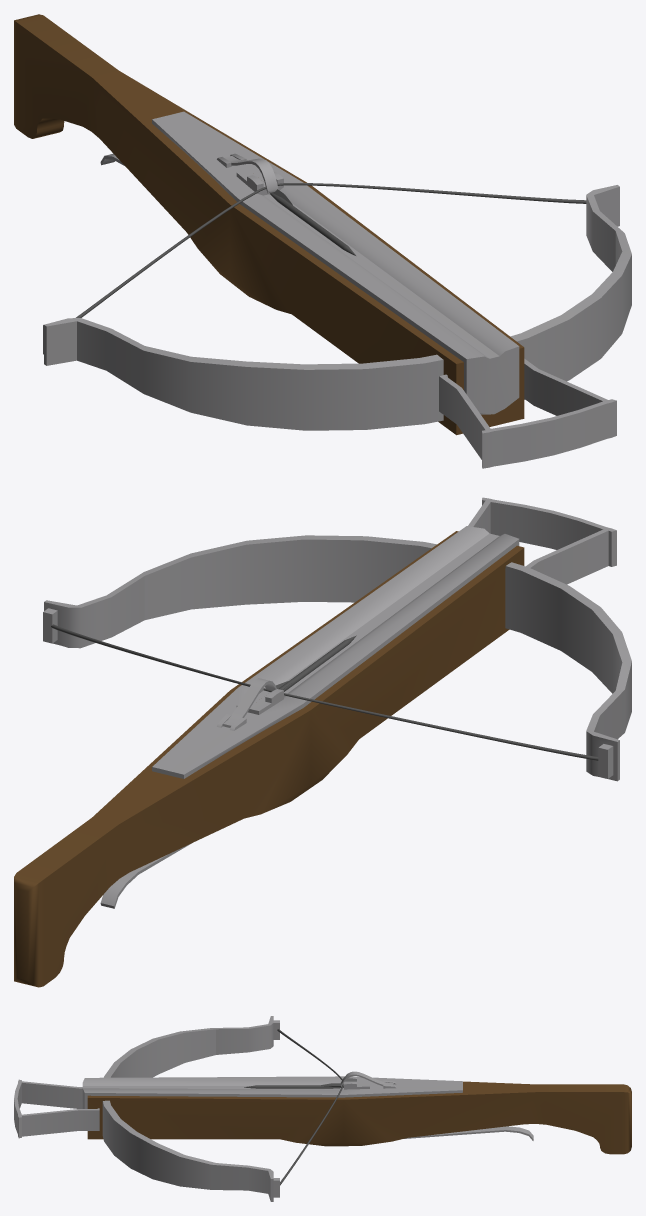
File: crossbow.fbx
The picture shows the model from 3 angles, top to bottom: view 1: azimuth 30°, elevation 25°; view 2: azimuth 150°, elevation 25°; view 3: azimuth 270°, elevation 25°; orthographic projection. The views are drawn at different scales.
Parts seen in each view (by area): view 1: crossbow, bolt; view 2: crossbow; view 3: crossbow, bolt.
Part boxes in pixels (x1,y1,x2,y2): crossbow: (14,14,631,468); bolt: (268,189,355,255); crossbow: (14,497,631,987); crossbow: (14,1016,631,1201); bolt: (244,1083,343,1088).
Bounding box in the file's own units: 100 × 22.17 × 160.
